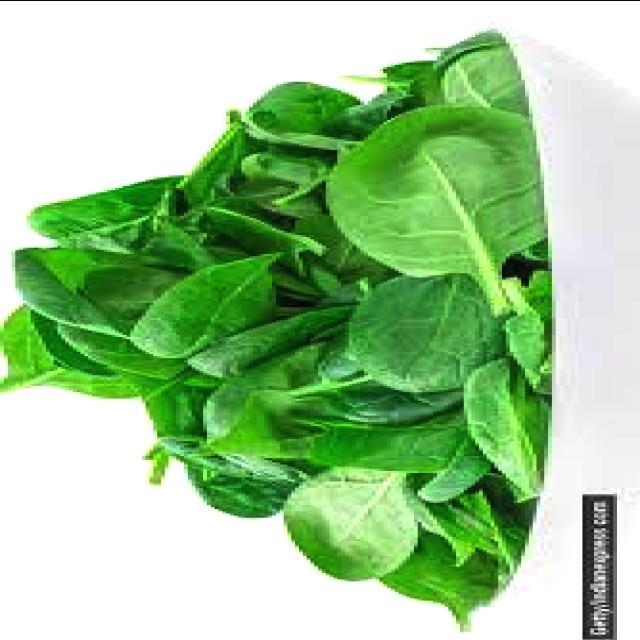Spinach: (19, 0, 615, 560)
